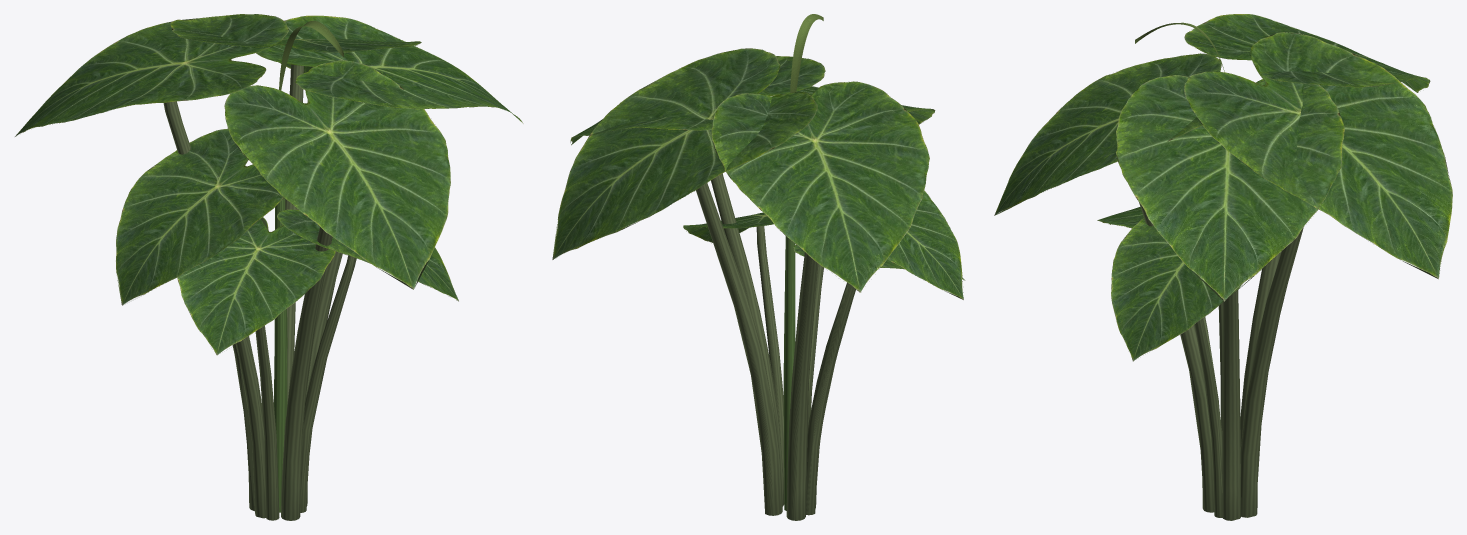
The model's file is taro-3.glb.
The picture shows the model from 3 angles, left to right: view 1: azimuth 30°, elevation 25°; view 2: azimuth 150°, elevation 25°; view 3: azimuth 270°, elevation 25°; orthographic projection. The views are drawn at different scales.
Parts seen in each view (by area): view 1: leaf, petiole, new-leaf; view 2: leaf, petiole, new-leaf, leaf-back; view 3: leaf, petiole.
Part boxes in pixels (x1,y1,x2,y2): leaf: (15,14,511,355); petiole: (163,64,356,520); new-leaf: (279,20,343,90); leaf: (552,48,964,299); petiole: (696,173,855,520); new-leaf: (790,14,823,92); leaf-back: (571,108,935,242); leaf: (994,14,1452,361); petiole: (1139,202,1303,520).
Bounding box in the file's own units: 1.08 × 1.23 × 1.04.
Materials: 5 (4 with a texture image).
